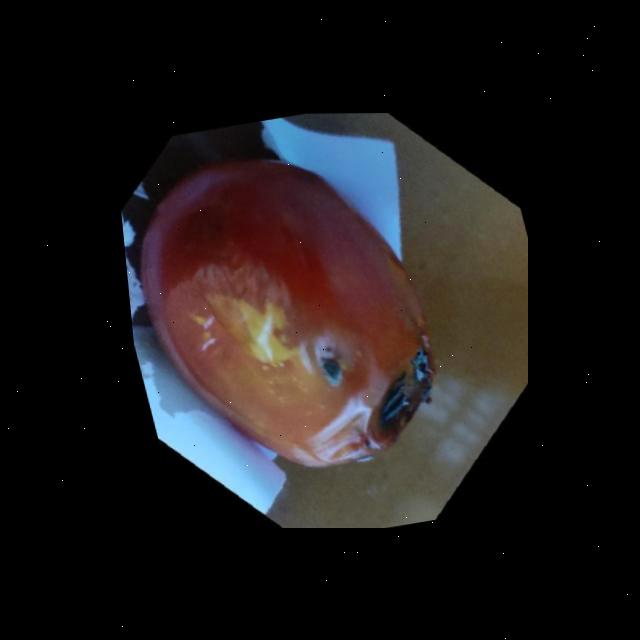tomato: (138, 148, 444, 477)
